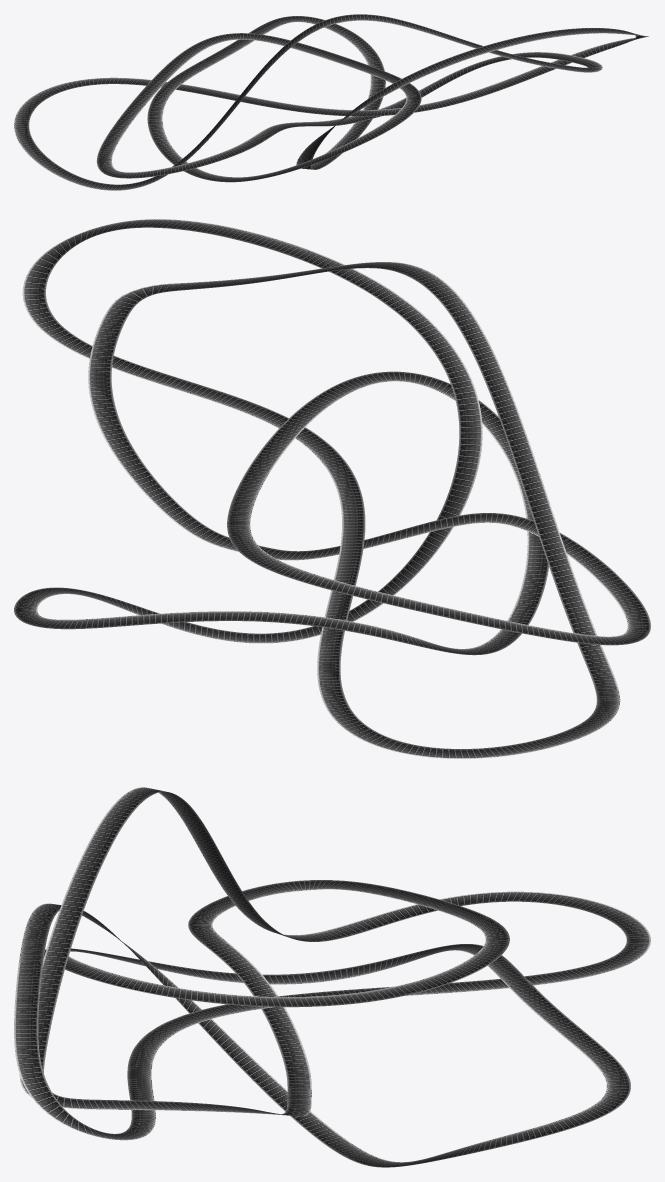
The model's file is RouteBeta01.obj.
The picture shows the model from 3 angles, top to bottom: view 1: azimuth 30°, elevation 25°; view 2: azimuth 150°, elevation 25°; view 3: azimuth 270°, elevation 25°; orthographic projection. The views are drawn at different scales.
Parts seen in each view (by area): view 1: block4; view 2: block4; view 3: block4.
Part boxes in pixels (box(x1,y1,x2,y2)): block4: box(14, 14, 648, 190); block4: box(14, 219, 650, 758); block4: box(14, 787, 650, 1167).
Bounding box in the file's own units: 149 × 57.09 × 105.
Materials: 1 (1 with a texture image).
